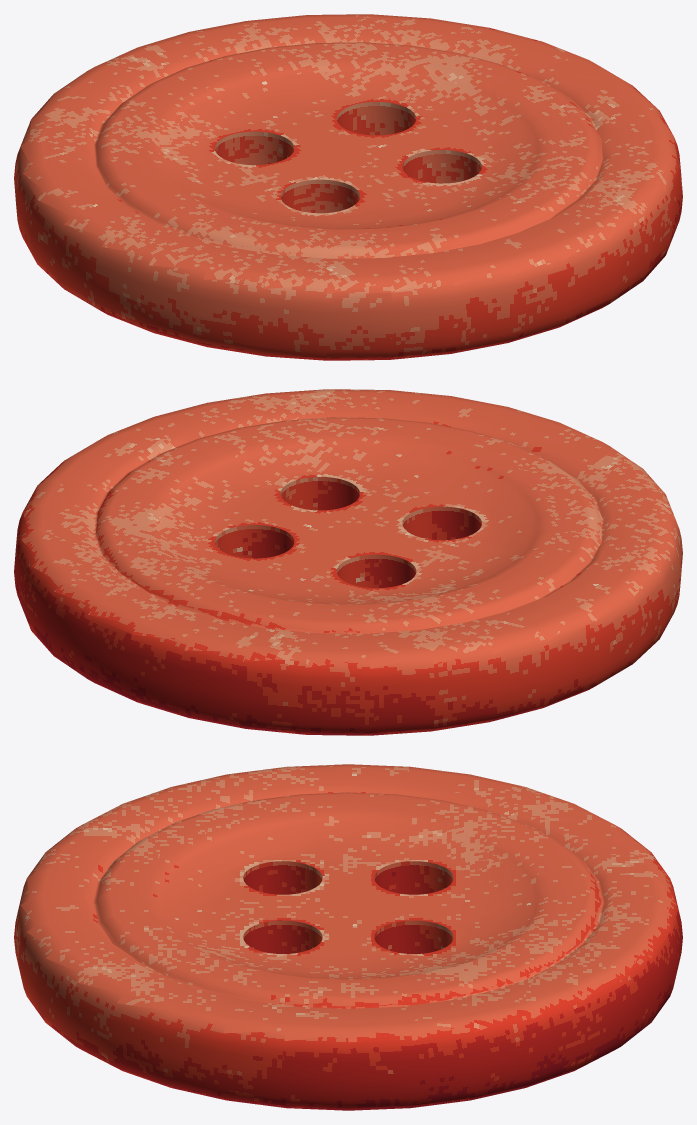
Rendered from button_m.glb.
3 views of the same model, one above another, from view 1: azimuth 30°, elevation 25°; view 2: azimuth 150°, elevation 25°; view 3: azimuth 270°, elevation 25° (orthographic).
Parts seen in each view (by area): view 1: mesh; view 2: mesh; view 3: mesh.
Boxes of the visible parts, x1,y1,x2,y2 form: mesh: (14, 14, 682, 360); mesh: (14, 389, 682, 735); mesh: (14, 764, 682, 1110).
Size of the model in its own units: 0.1424 by 0.02 by 0.1424.
1 material, 1 textured.
